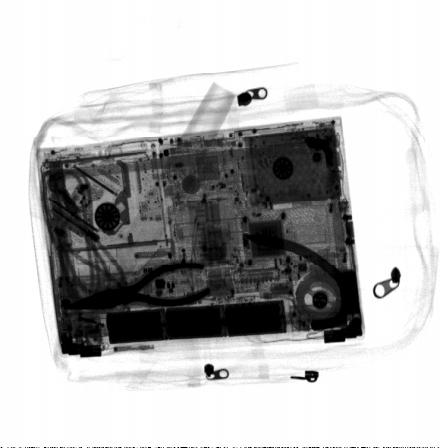Pliers: (68, 260, 212, 311)
